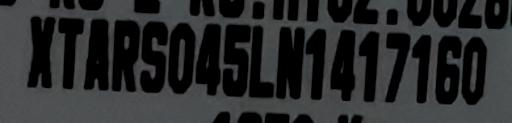letter: (220, 22, 252, 99), (139, 16, 169, 93), (166, 21, 196, 96), (275, 25, 305, 100), (26, 16, 56, 89), (110, 19, 140, 92), (459, 33, 489, 106), (194, 21, 222, 96), (56, 16, 84, 89), (82, 17, 110, 90), (328, 28, 356, 101), (434, 32, 462, 105), (248, 23, 274, 98), (384, 31, 410, 104), (356, 28, 380, 101), (304, 26, 326, 99), (409, 32, 431, 103)
